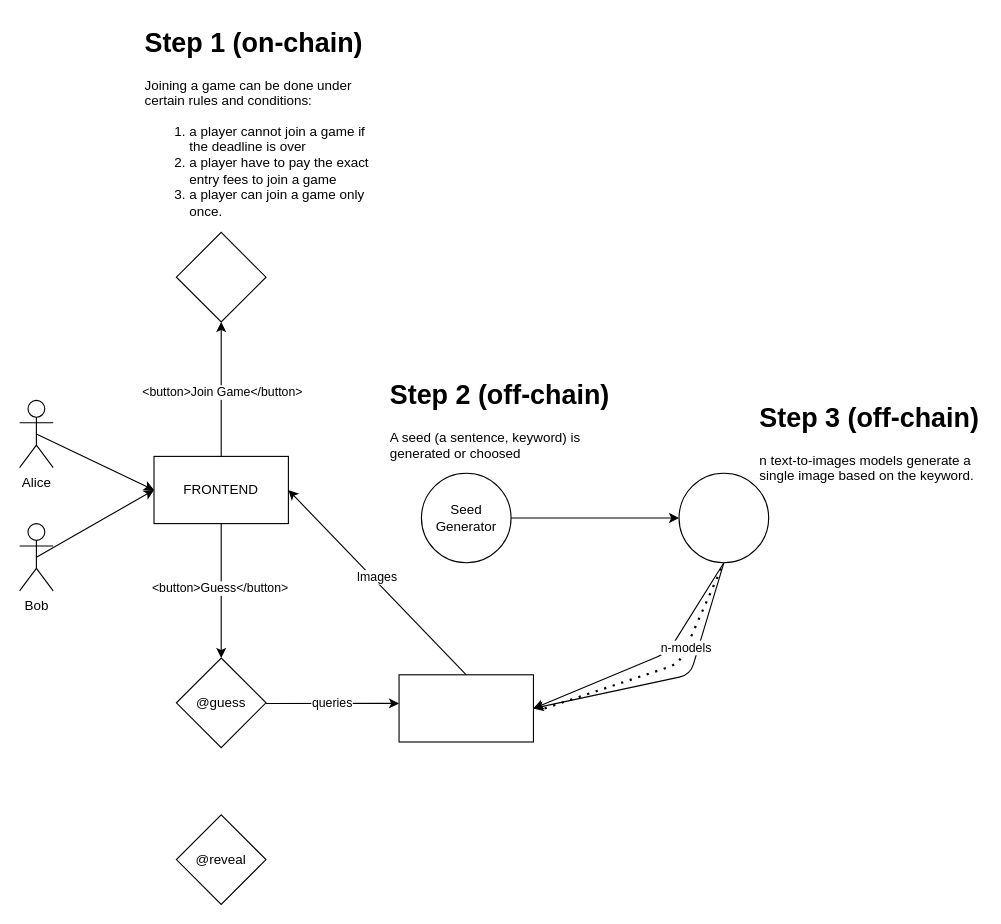
This 1001x924 diagram has some shape labels left out. Each missing label, with the centre of its shape:
"@join_game" belongs at (220,276).
"BACKEND" belongs at (465,708).
"Text-to-image models" belongs at (723,517).
